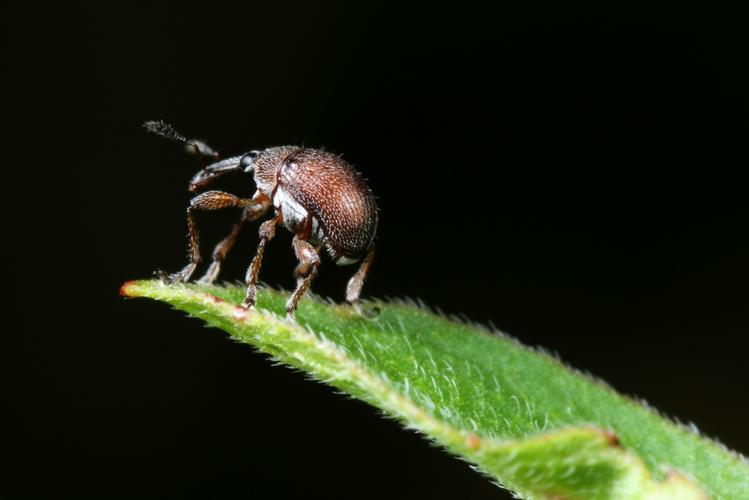Curculionidae: (141, 118, 383, 325)
